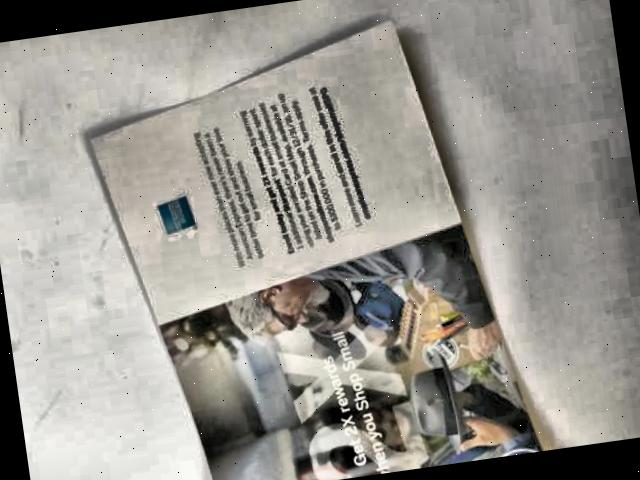Paper: (69, 2, 544, 480)
